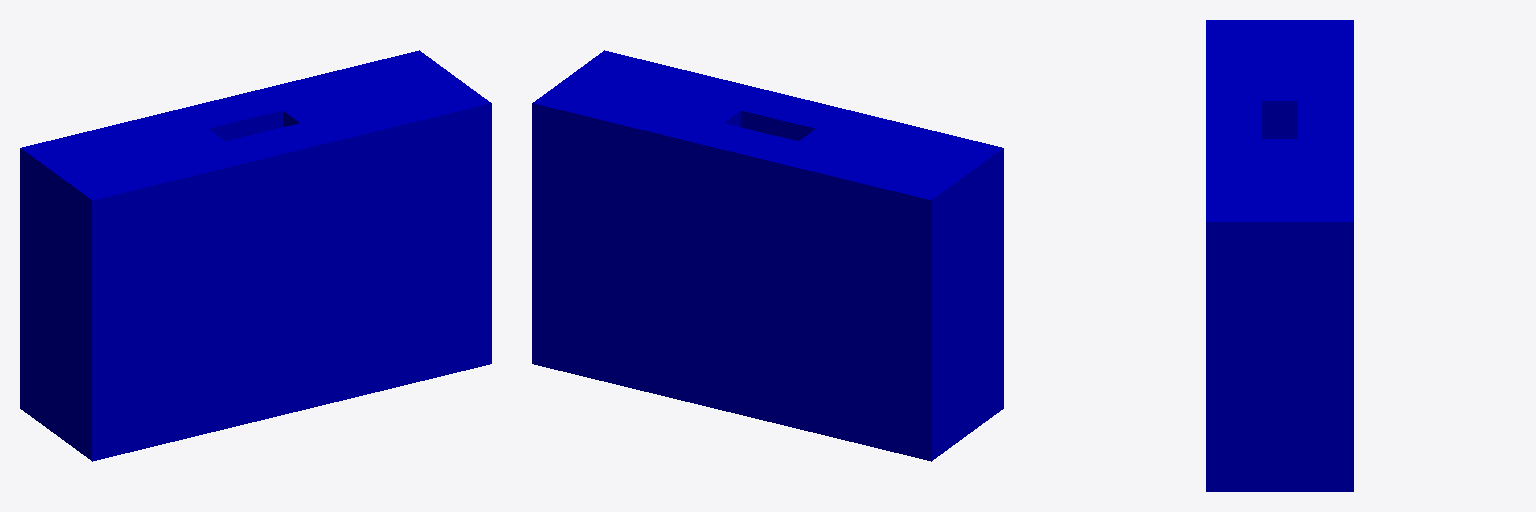
The robot description file, URDF, robot "padlock":
<?xml version="1.0"?>
<robot name="padlock">
  <link name="world" />

  <link name="padlock">
    <visual>
      <geometry>
	<mesh filename="package://lock_key/mesh/lock.STL" />
      </geometry>
            <material name="blue">
            <color rgba = "0 0 0.8 1"/>
            </material>
    </visual>
    <collision>
      <geometry>
	<mesh filename="package://lock_key/mesh/lock.STL" />
      </geometry>
    </collision>
    <!-- PLACEHOLDER VALUES -->
    <inertial>
      <mass value="0.1" />
      <inertia ixx="0.1" ixy="0.1" ixz="0.1"
	       iyy="0.1" iyz="0.1"
	       izz="0.1" />
    </inertial>
  </link>

  <joint name="table_padlock" type="floating">
    <origin rpy="0 0 0" xyz="0 0 0" />
    <parent link="world" />
    <child link="padlock" />
  </joint>

</robot>

--- Facts derived from the render (not from the file) ---
Views: 3 orthographic renders of the robot side by side, from view 1: azimuth 30°, elevation 25°; view 2: azimuth 150°, elevation 25°; view 3: azimuth 270°, elevation 25°.
Model padlock with 2 links and 1 joints (1 floating), rooted at world, posed every joint at zero.
Links seen in each view (by area): view 1: padlock; view 2: padlock; view 3: padlock.
Boxes of the visible links, x1=… form: padlock: x1=20, y1=50, x2=491, y2=461; padlock: x1=532, y1=50, x2=1003, y2=461; padlock: x1=1206, y1=20, x2=1353, y2=491.
Size in the robot's own frame: 0.08 by 0.025 by 0.05 metres.
Meshes: 1 distinct files referenced, 1 mesh visuals loaded (1 binary STL).